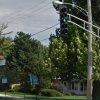Tree: (10, 24, 57, 96)
